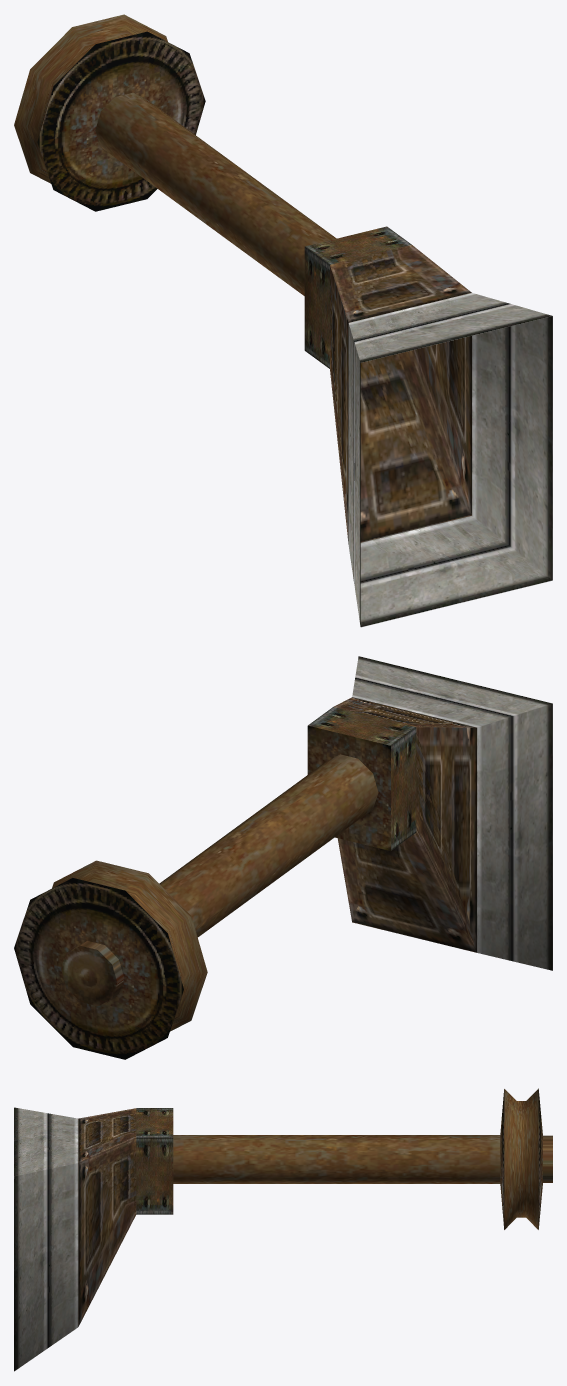
Rendered from DWARF_PALACE_GONDOLA_SUPPORT14.fbx.
3 renders of one model, top to bottom at view 1: azimuth 30°, elevation 25°; view 2: azimuth 150°, elevation 25°; view 3: azimuth 270°, elevation 25°, orthographic. The views are drawn at different scales.
Visible parts, largest first — view 1: DWARF_PALACE_GONDOLA_SUPPORT14; view 2: DWARF_PALACE_GONDOLA_SUPPORT14; view 3: DWARF_PALACE_GONDOLA_SUPPORT14.
Boxes of the visible parts, bbox=[...] form: DWARF_PALACE_GONDOLA_SUPPORT14: bbox=[14, 14, 552, 627]; DWARF_PALACE_GONDOLA_SUPPORT14: bbox=[14, 656, 552, 1059]; DWARF_PALACE_GONDOLA_SUPPORT14: bbox=[14, 1088, 552, 1371].
Size of the model in its own units: 9972 by 16021 by 32816.
Materials: 6 (6 with a texture image).
